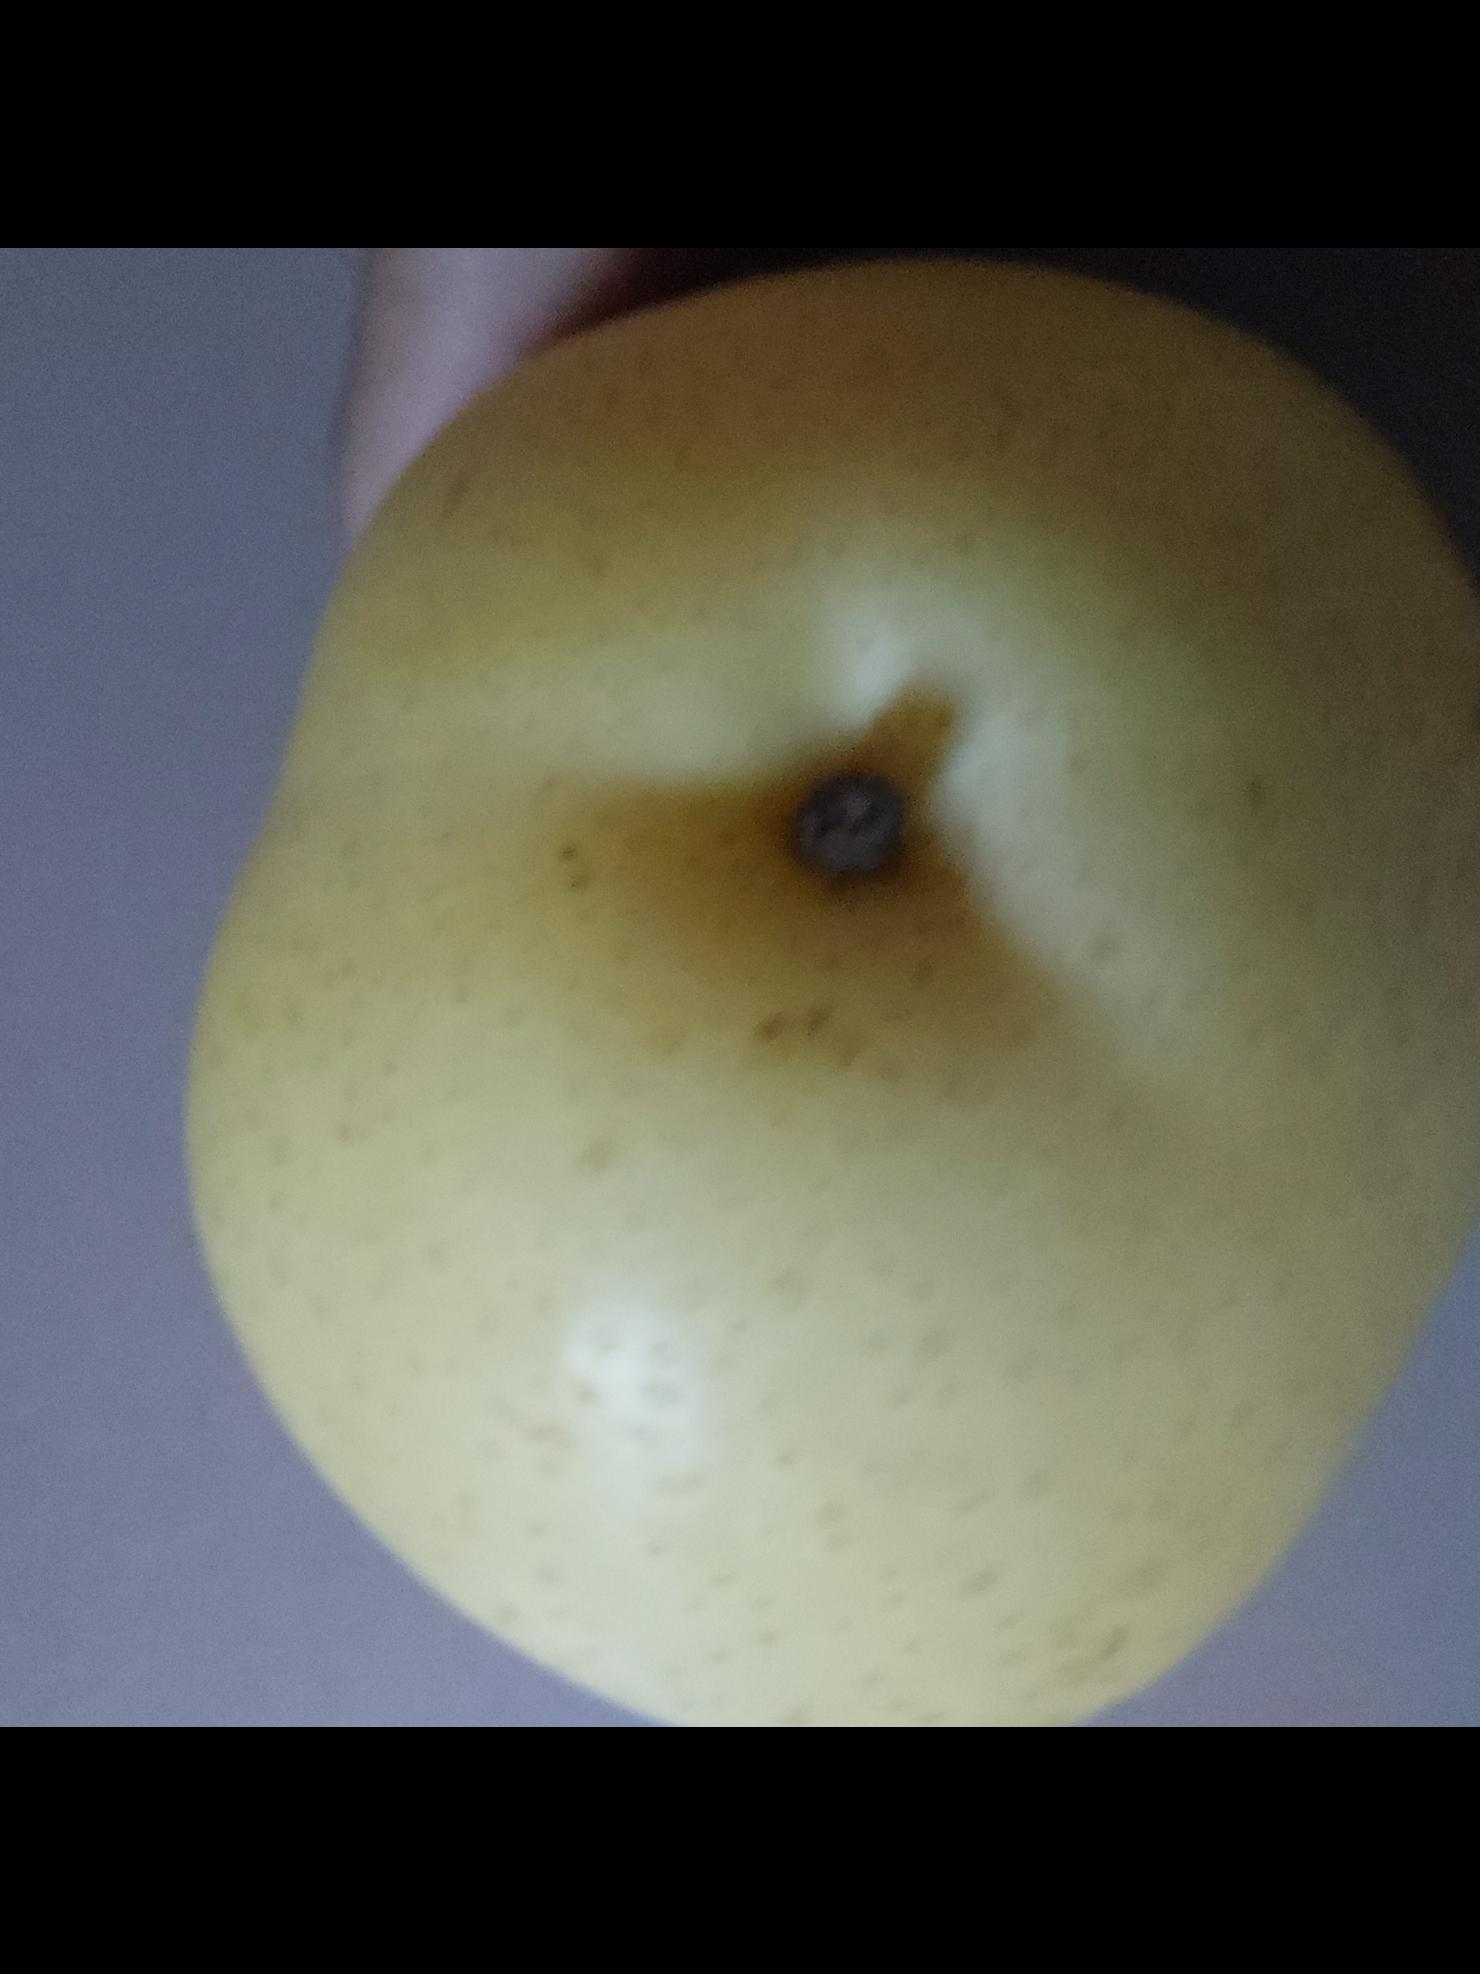Good Pear: (191, 261, 1480, 1727)
